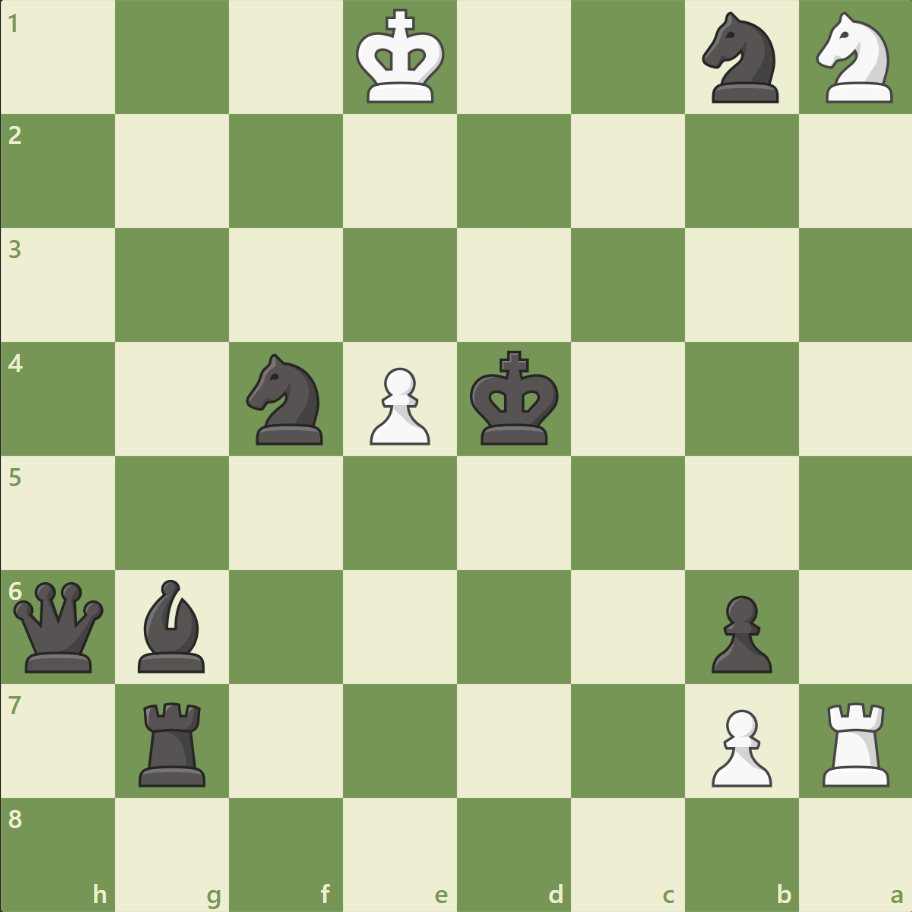K: (351, 4, 451, 112)
N: (806, 7, 903, 110)
P: (701, 700, 776, 791), (361, 359, 435, 450)
R: (814, 693, 897, 790)
b: (131, 574, 215, 676)
k: (465, 344, 565, 452)
n: (692, 7, 789, 110), (238, 348, 335, 450)
p: (701, 586, 776, 677)
q: (10, 576, 109, 676)
r: (133, 693, 215, 790)
